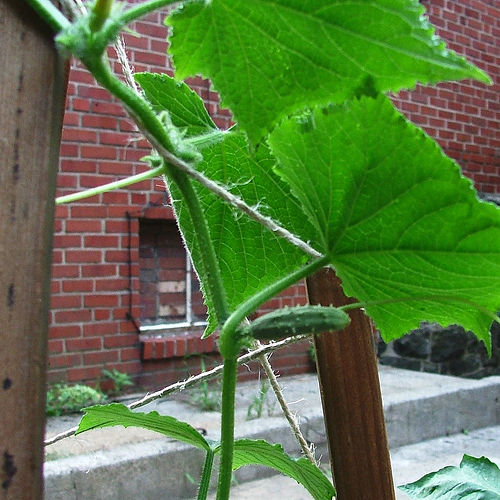cucumber: (247, 302, 356, 342)
